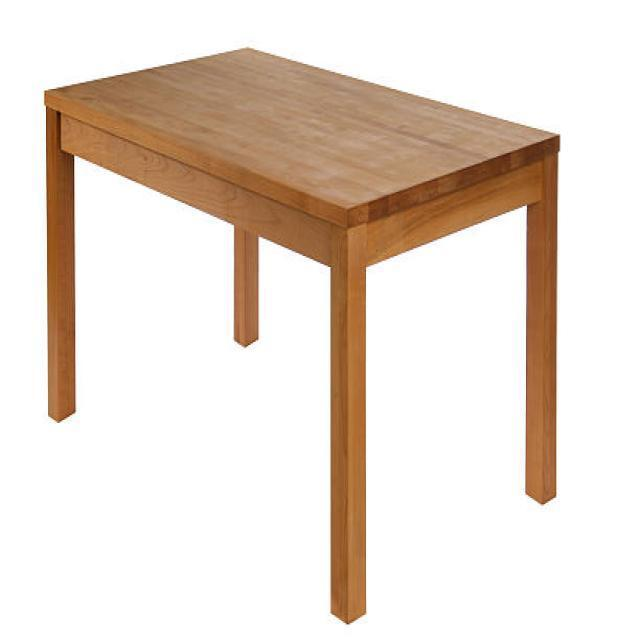table: (42, 44, 560, 623)
